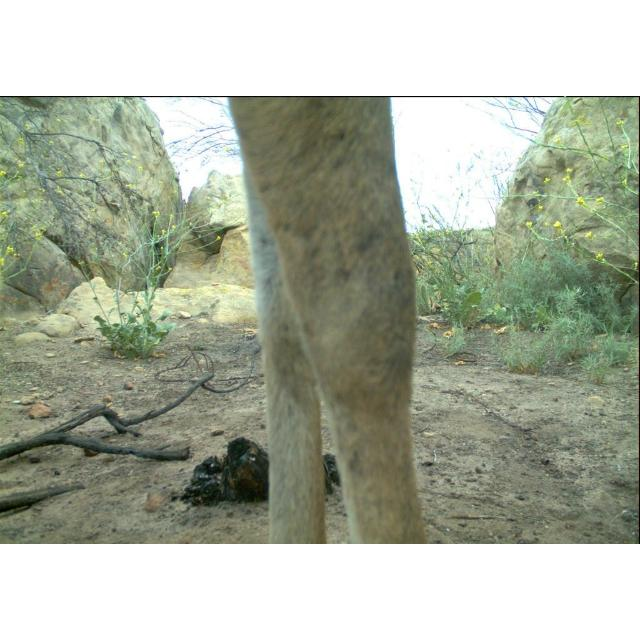animals: (228, 98, 428, 544)
